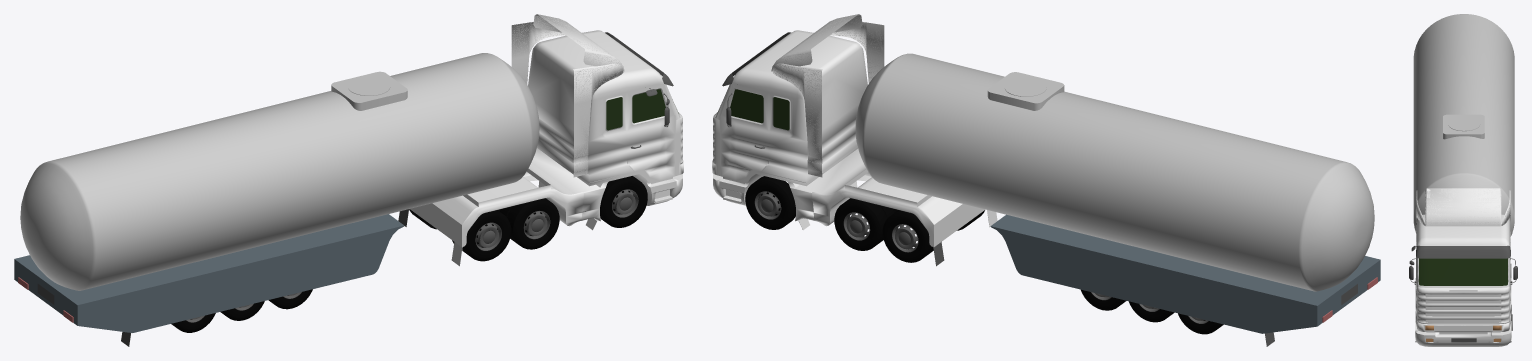
The model's file is car8.glb.
3 renders of one model, left to right at view 1: azimuth 30°, elevation 25°; view 2: azimuth 150°, elevation 25°; view 3: azimuth 270°, elevation 25°, orthographic. The views are drawn at different scales.
Visible parts, largest first — view 1: ~09___Default_materialGroup_13, ~16TankCar02_materialGroup_14, ~car1609_materialGroup_11, ~car1610_materialGroup_10, ~_____21_materialGroup_17, ~??_13_materialGroup_16, obj11~car1608_materialGroup_8, obj3~Material__32_materialGroup_3; view 2: ~09___Default_materialGroup_13, ~16TankCar02_materialGroup_14, ~car1609_materialGroup_11, ~car1610_materialGroup_10, ~??_13_materialGroup_16, obj24~_____21_materialGroup_18, obj19~_____21_materialGroup_15, ~_____21_materialGroup_17, obj3~Material__32_materialGroup_3, obj43~_____21_materialGroup_22, obj11~car1608_materialGroup_8; view 3: ~09___Default_materialGroup_13, ~car1609_materialGroup_11, obj3~Material__32_materialGroup_3, obj11~car1608_materialGroup_8, obj4~??_10_materialGroup_4, ~car1610_materialGroup_10, obj5~??_19_materialGroup_5, ~??_10_materialGroup_6, obj1~car1603_materialGroup_1.
Boxes of the visible parts, x1,y1,x2,y2 form: ~09___Default_materialGroup_13: (20,53,539,290); ~16TankCar02_materialGroup_14: (14,214,404,332); ~car1609_materialGroup_11: (511,14,683,186); ~car1610_materialGroup_10: (410,148,682,247); ~_____21_materialGroup_17: (191,176,647,319); ~??_13_materialGroup_16: (186,189,638,322); obj11~car1608_materialGroup_8: (467,84,680,224); obj3~Material__32_materialGroup_3: (606,89,678,130); ~09___Default_materialGroup_13: (855,53,1374,291); ~16TankCar02_materialGroup_14: (990,214,1380,333); ~car1609_materialGroup_11: (712,14,884,186); ~car1610_materialGroup_10: (713,148,985,247); ~??_13_materialGroup_16: (754,191,1208,323); obj24~_____21_materialGroup_18: (745,176,795,229); obj19~_____21_materialGroup_15: (834,198,886,250); ~_____21_materialGroup_17: (847,205,1223,334); obj3~Material__32_materialGroup_3: (717,89,789,130); obj43~_____21_materialGroup_22: (882,210,933,262); obj11~car1608_materialGroup_8: (715,84,927,224); ~09___Default_materialGroup_13: (1413,14,1514,236); ~car1609_materialGroup_11: (1415,188,1511,332); obj3~Material__32_materialGroup_3: (1418,258,1508,285); obj11~car1608_materialGroup_8: (1416,258,1510,346); obj4~??_10_materialGroup_4: (1416,245,1510,342); ~car1610_materialGroup_10: (1415,321,1511,346); obj5~??_19_materialGroup_5: (1417,258,1509,287); ~??_10_materialGroup_6: (1409,246,1517,284); obj1~car1603_materialGroup_1: (1425,325,1501,341).
Bounding box in the file's own units: 14.35 × 4.04 × 2.86.
